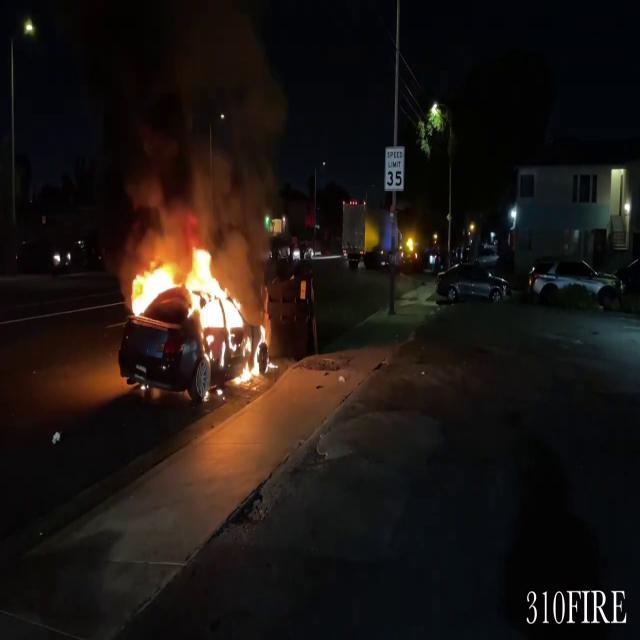Fire: (122, 236, 267, 388)
Smoke: (115, 1, 292, 251)
